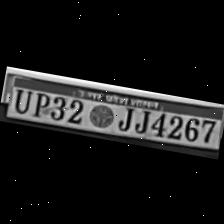2: (62, 94, 86, 124), (164, 110, 184, 138)
3: (46, 90, 68, 120)
4: (146, 106, 168, 136)
6: (180, 112, 201, 142)
7: (196, 115, 217, 144)
J: (114, 101, 137, 132), (131, 104, 150, 132)
P: (30, 88, 51, 117)
U: (8, 83, 34, 113)
